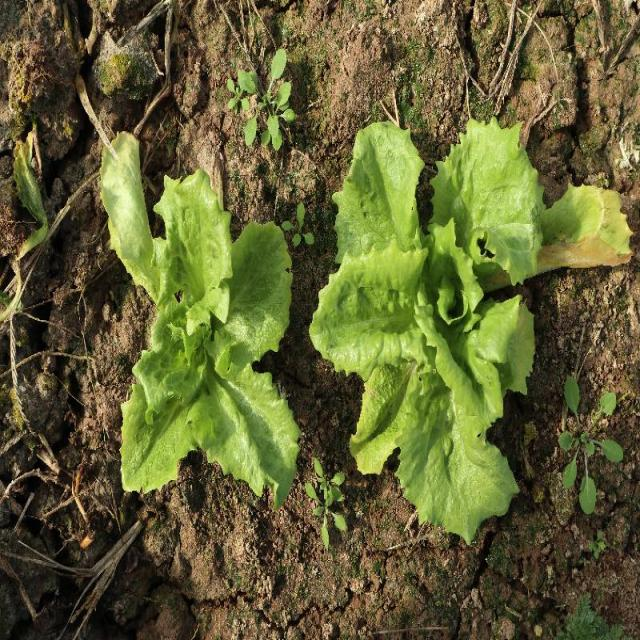crop: (309, 117, 548, 546), (122, 175, 301, 504)
